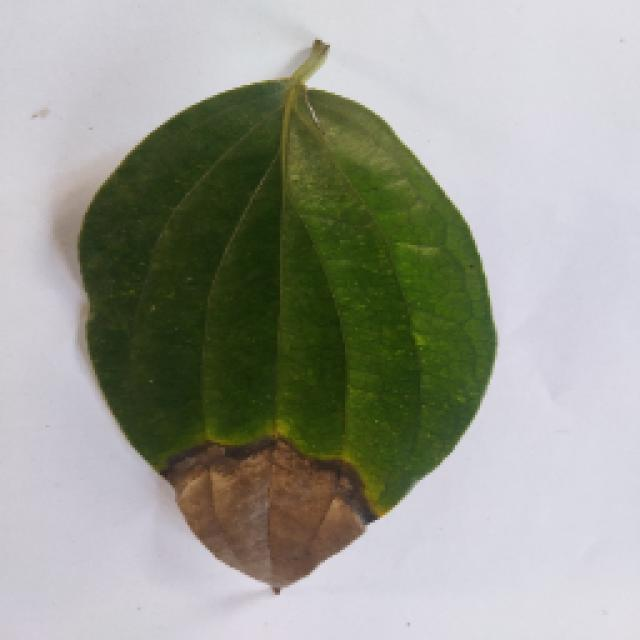footrot: (70, 50, 495, 595)
